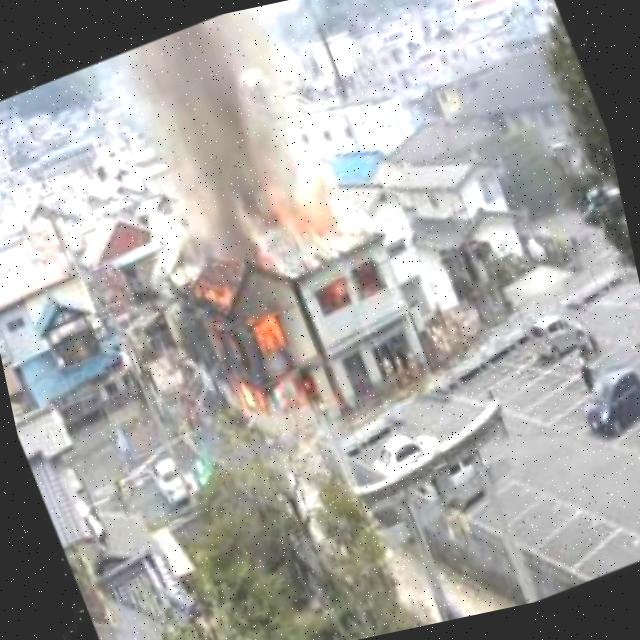fire: (178, 254, 318, 443), (307, 274, 357, 318)
